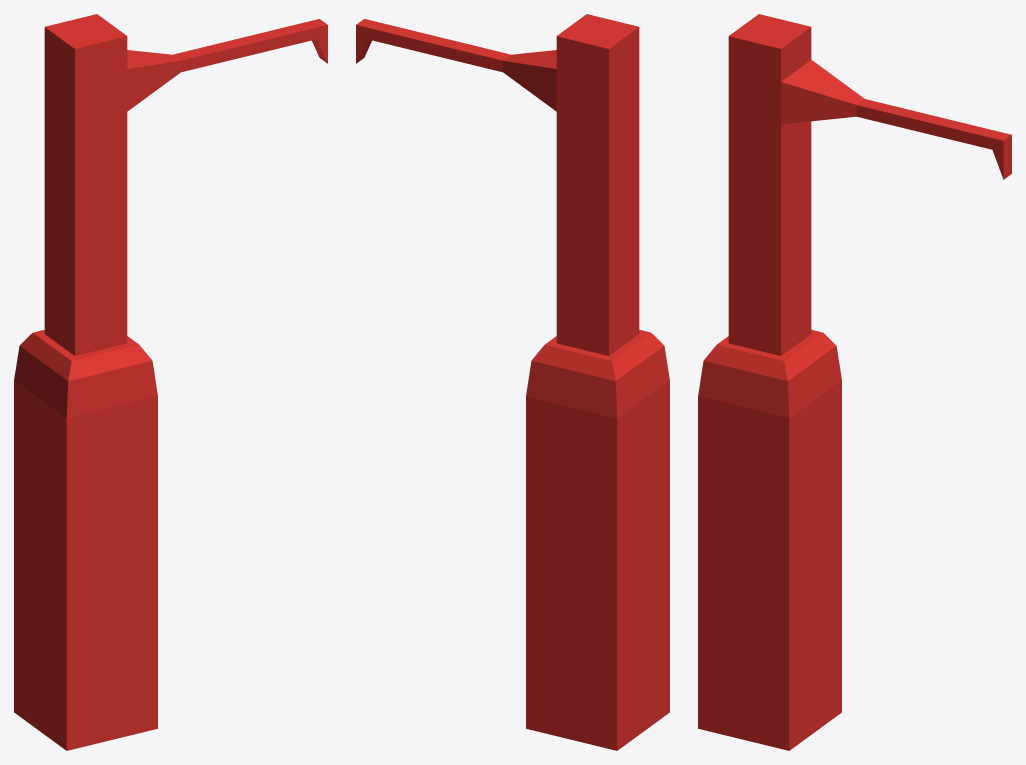
Rendered from Hook.fbx.
3 views of the same model, side by side, from view 1: azimuth 30°, elevation 25°; view 2: azimuth 150°, elevation 25°; view 3: azimuth 330°, elevation 25° (orthographic).
Parts seen in each view (by area): view 1: Cube; view 2: Cube; view 3: Cube.
Part boxes in pixels (x1,y1,x2,y2): Cube: (14, 14, 327, 750); Cube: (356, 14, 669, 750); Cube: (698, 14, 1011, 750).
Size of the model in its own units: 31.05 by 72.17 by 10.
